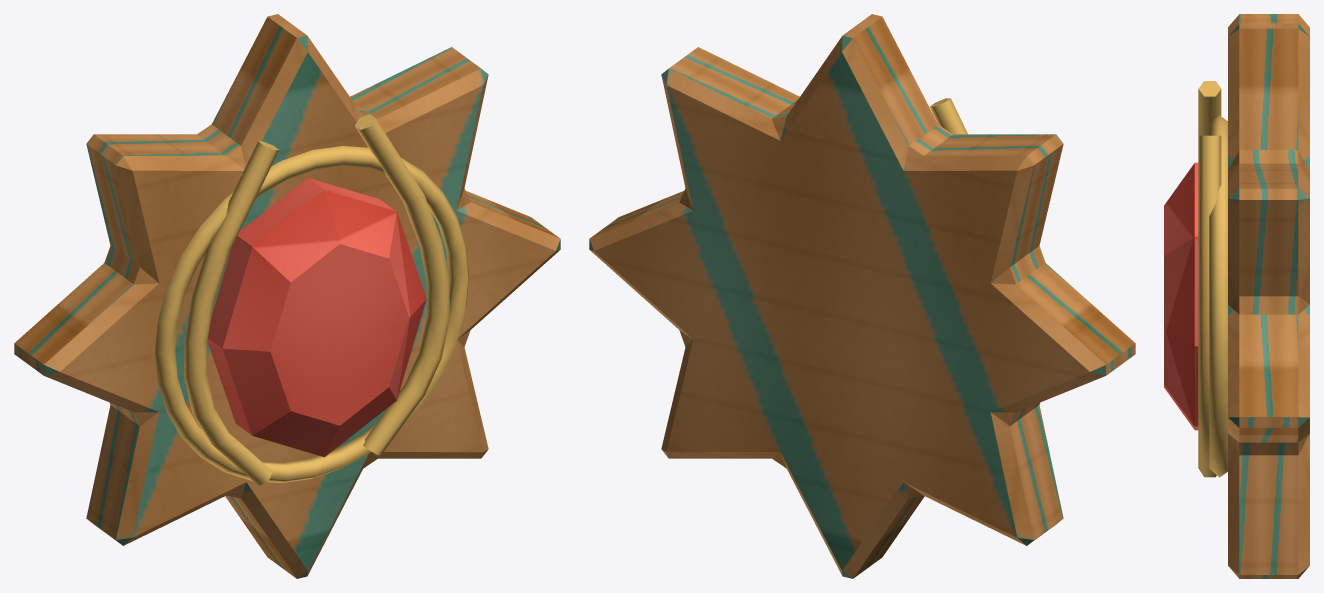
The model's file is mars_emblem.obj.
3 renders of one model, left to right at view 1: azimuth 30°, elevation 25°; view 2: azimuth 150°, elevation 25°; view 3: azimuth 270°, elevation 25°, orthographic.
Parts seen in each view (by area): view 1: A_ForgedSunburst.001_mars_emblem_bronze, C_CutGarnet.001_mars_emblem_enamel, B_WornRaisedRim.001_mars_emblem_ridge_gold, D_FlameFork-1.001_mars_emblem_ridge_gold, D_FlameFork1.001_mars_emblem_ridge_gold; view 2: A_ForgedSunburst.001_mars_emblem_bronze, D_FlameFork-1.001_mars_emblem_ridge_gold; view 3: A_ForgedSunburst.001_mars_emblem_bronze, C_CutGarnet.001_mars_emblem_enamel, B_WornRaisedRim.001_mars_emblem_ridge_gold, D_FlameFork1.001_mars_emblem_ridge_gold, D_FlameFork-1.001_mars_emblem_ridge_gold.
Part boxes in pixels (bbox=[...]): A_ForgedSunburst.001_mars_emblem_bronze: bbox=[14, 14, 560, 578]; C_CutGarnet.001_mars_emblem_enamel: bbox=[207, 178, 426, 457]; B_WornRaisedRim.001_mars_emblem_ridge_gold: bbox=[155, 146, 468, 482]; D_FlameFork-1.001_mars_emblem_ridge_gold: bbox=[183, 141, 278, 485]; D_FlameFork1.001_mars_emblem_ridge_gold: bbox=[355, 114, 450, 456]; A_ForgedSunburst.001_mars_emblem_bronze: bbox=[589, 14, 1135, 578]; D_FlameFork-1.001_mars_emblem_ridge_gold: bbox=[930, 98, 967, 134]; A_ForgedSunburst.001_mars_emblem_bronze: bbox=[1228, 14, 1309, 578]; C_CutGarnet.001_mars_emblem_enamel: bbox=[1164, 162, 1198, 430]; B_WornRaisedRim.001_mars_emblem_ridge_gold: bbox=[1209, 115, 1227, 477]; D_FlameFork1.001_mars_emblem_ridge_gold: bbox=[1198, 135, 1221, 477]; D_FlameFork-1.001_mars_emblem_ridge_gold: bbox=[1198, 81, 1221, 135].
Bounding box in the file's own units: 1.82 × 1.82 × 0.445.
